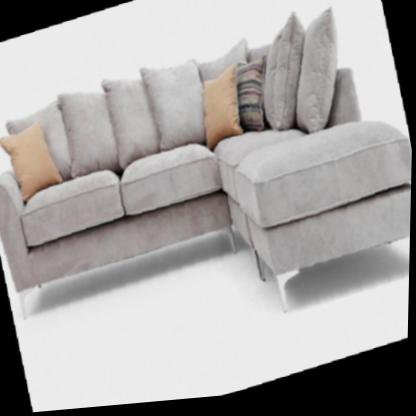Sofa: (6, 6, 383, 326)
